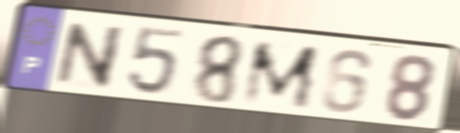5: (124, 24, 186, 100)
6: (319, 47, 373, 116)
8: (189, 33, 247, 105), (384, 52, 438, 123)
M: (239, 40, 322, 111)
N: (51, 21, 128, 92)
